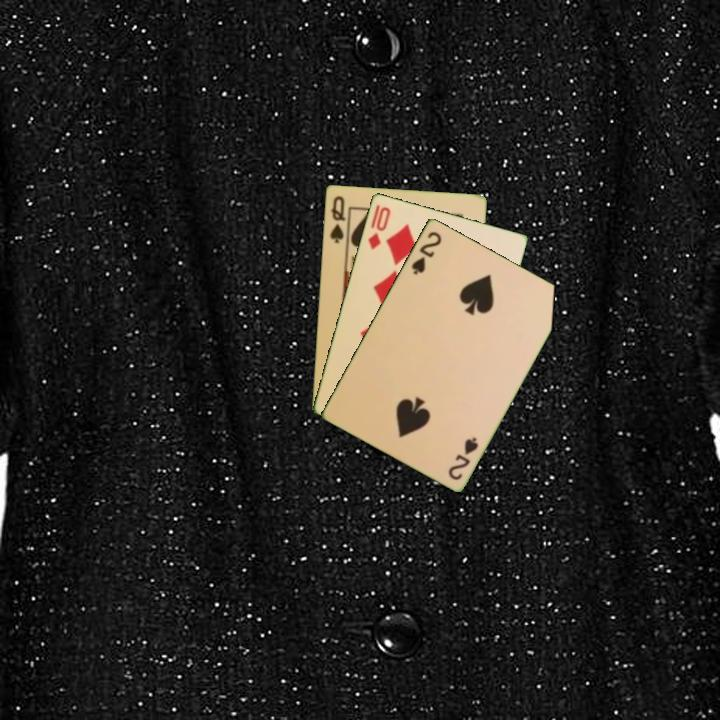10d: (364, 203, 393, 252)
2s: (444, 433, 481, 483), (408, 227, 444, 277)
Qs: (326, 192, 348, 246)
